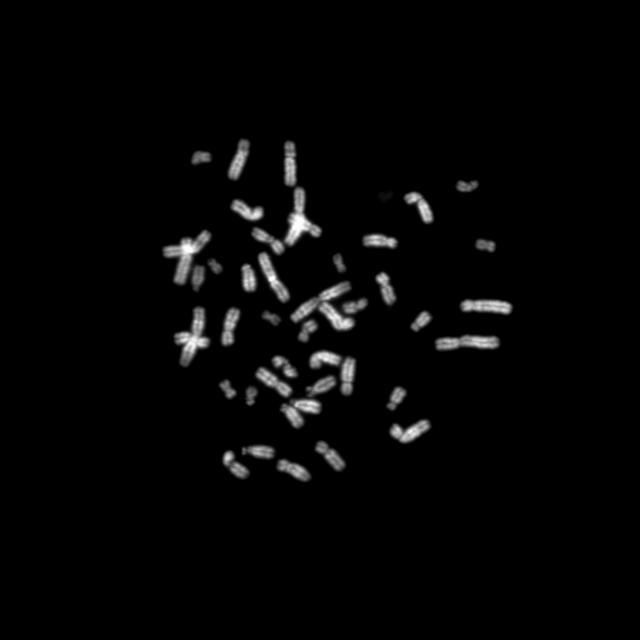chromosome: (290, 280, 352, 322), (257, 252, 288, 304), (180, 307, 205, 367), (284, 188, 306, 245), (162, 231, 210, 257), (316, 301, 354, 331), (255, 368, 291, 398), (173, 238, 192, 286), (405, 192, 433, 224), (250, 227, 284, 253), (391, 420, 431, 442), (437, 336, 499, 350), (316, 441, 344, 471), (461, 300, 511, 316), (229, 140, 249, 180), (222, 451, 250, 479), (289, 213, 321, 237), (278, 459, 310, 481), (222, 308, 240, 346), (231, 200, 264, 220), (310, 349, 342, 368), (308, 376, 337, 396), (342, 356, 356, 396), (284, 140, 296, 186), (281, 404, 304, 428), (174, 332, 208, 348), (377, 274, 395, 304), (291, 396, 321, 414), (273, 357, 297, 377), (386, 386, 406, 410), (298, 321, 316, 344), (363, 236, 397, 248), (412, 312, 432, 332), (241, 446, 274, 458), (242, 264, 256, 292), (343, 299, 369, 313), (220, 379, 236, 399), (192, 149, 210, 165), (263, 310, 281, 326), (192, 265, 203, 291), (332, 254, 346, 274), (457, 180, 478, 192), (475, 240, 495, 252), (208, 258, 222, 274), (247, 388, 258, 406)
